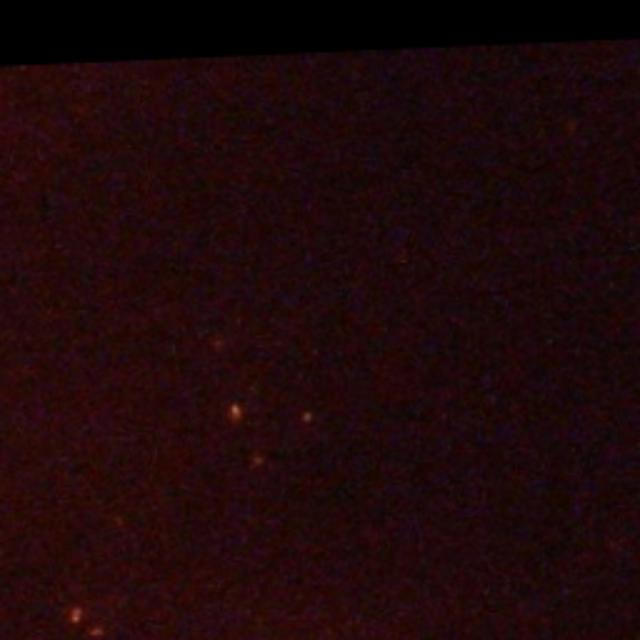Fragment: (228, 402, 246, 422), (70, 602, 86, 624)
